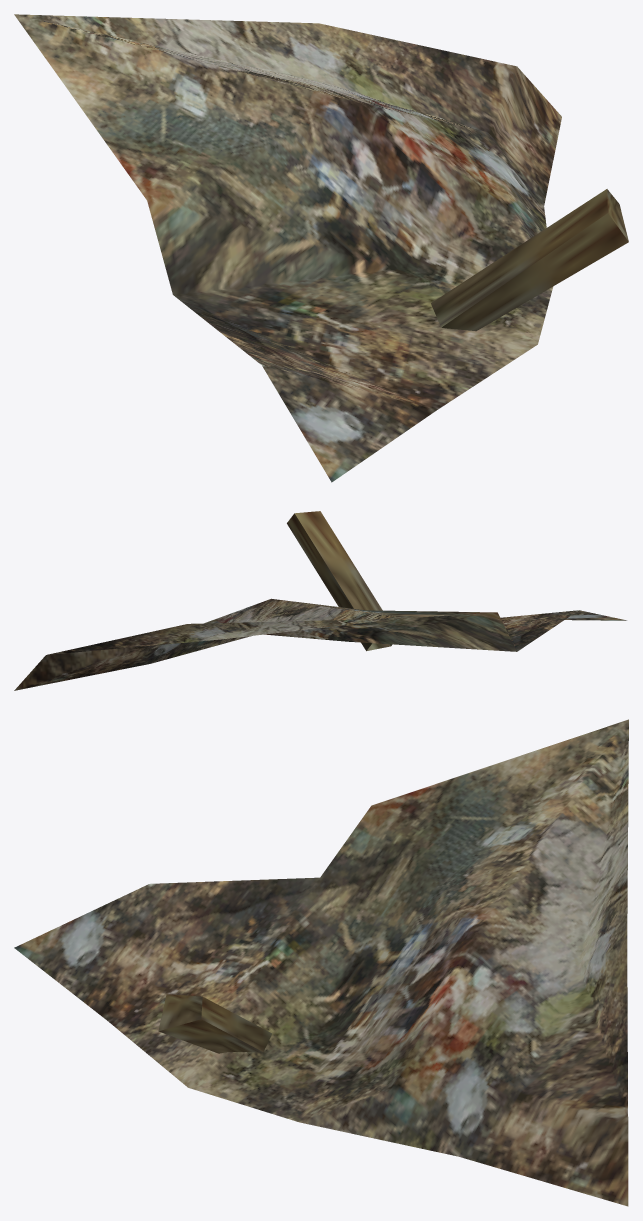
File: wtrsh4.glb
The picture shows the model from 3 angles, top to bottom: view 1: azimuth 30°, elevation 25°; view 2: azimuth 150°, elevation 25°; view 3: azimuth 270°, elevation 25°; orthographic projection. The views are drawn at different scales.
Visible parts, largest first — view 1: _wtrsh4; view 2: _wtrsh4; view 3: _wtrsh4.
Part boxes in pixels (<box>): _wtrsh4: <box>14,14,628,482</box>; _wtrsh4: <box>14,511,626,690</box>; _wtrsh4: <box>14,719,628,1206</box>.
Size of the model in its own units: 1.95 by 0.8257 by 1.96.
1 material, 1 textured.
